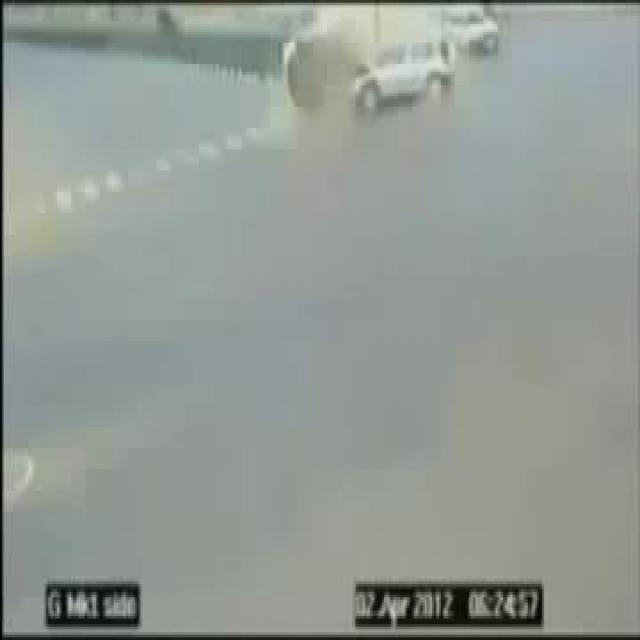accident: (279, 21, 459, 112)
